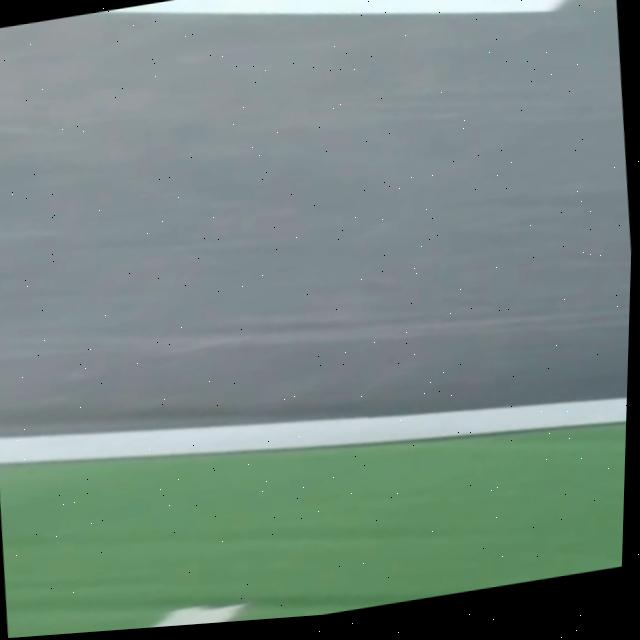center: (100, 0, 564, 11)
right: (0, 395, 627, 462)
